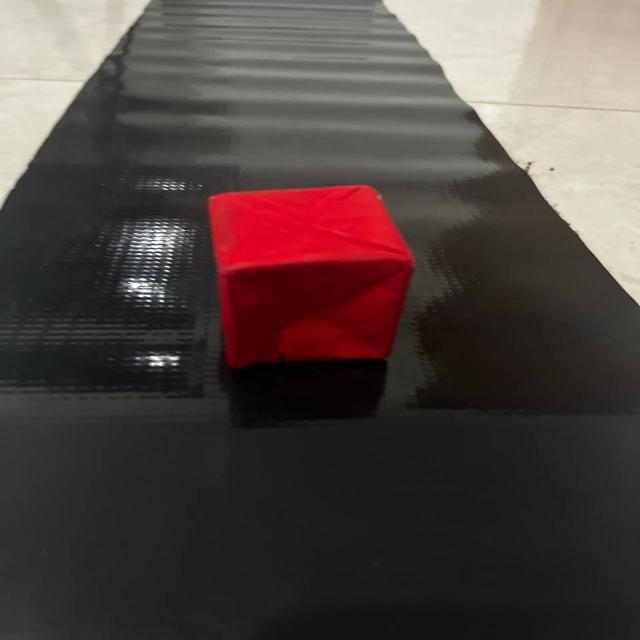Rojo: (178, 164, 444, 390)
